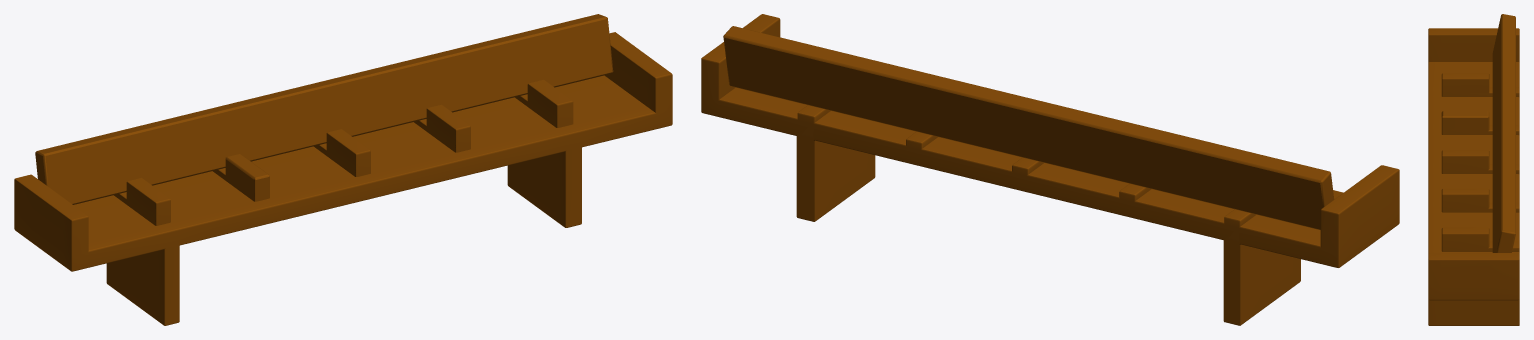
File: Bench.fbx
3 views of the same model, side by side, from view 1: azimuth 30°, elevation 25°; view 2: azimuth 150°, elevation 25°; view 3: azimuth 270°, elevation 25° (orthographic). The views are drawn at different scales.
Visible parts, largest first — view 1: Bench; view 2: Bench; view 3: Bench.
Boxes of the visible parts, <box> form: Bench: <box>14,14,672,325</box>; Bench: <box>701,14,1399,325</box>; Bench: <box>1428,14,1519,325</box>.
Size of the model in its own units: 18 by 4.47 by 3.
